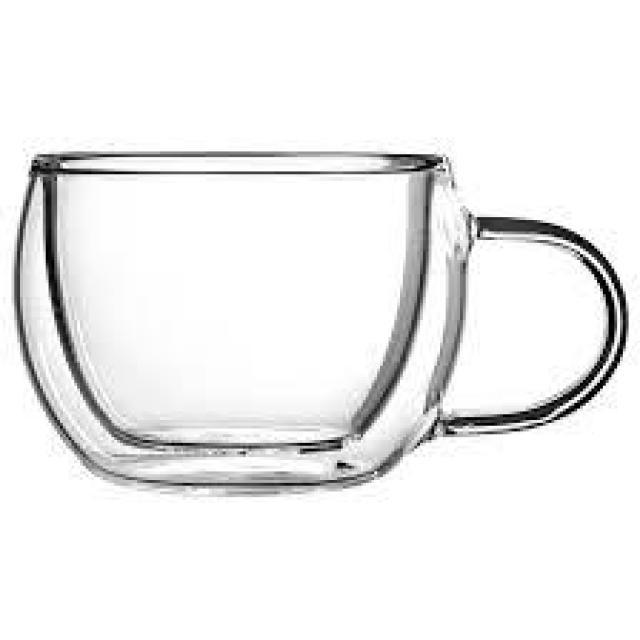Glass: (13, 148, 633, 498)
